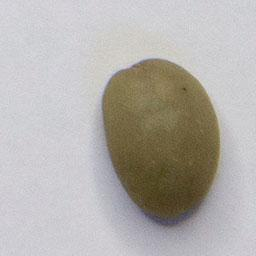premium: (99, 53, 223, 222)
